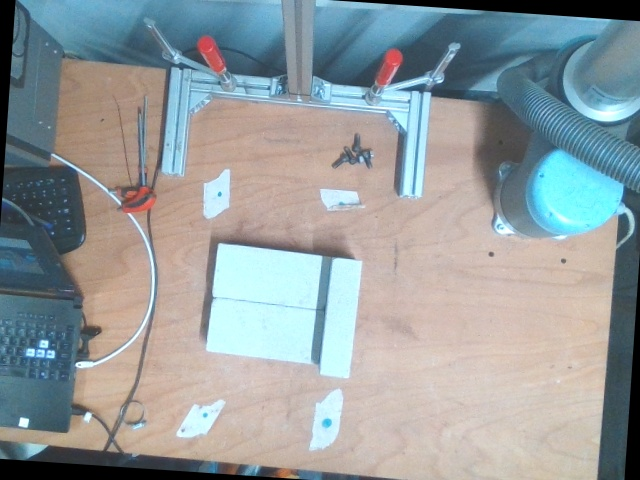brick-side: (318, 256, 364, 380)
